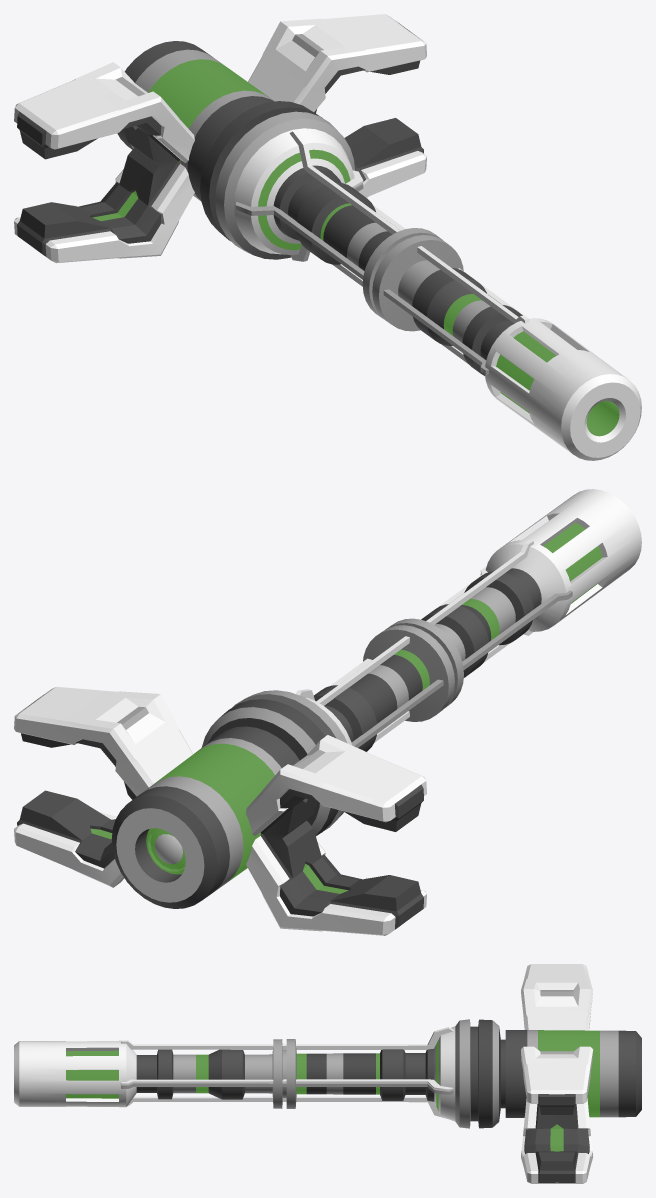
The model's file is Unknown_AudioTool_Prototype.fbx.
The picture shows the model from 3 angles, top to bottom: view 1: azimuth 30°, elevation 25°; view 2: azimuth 150°, elevation 25°; view 3: azimuth 270°, elevation 25°; orthographic projection. The views are drawn at different scales.
Visible parts, largest first — view 1: Line075; view 2: Line075; view 3: Line075.
Boxes of the visible parts, bbox=[...] form: Line075: bbox=[14, 14, 641, 460]; Line075: bbox=[14, 489, 641, 935]; Line075: bbox=[14, 964, 641, 1183].
Size of the model in its own units: 551 by 219 by 1112.
